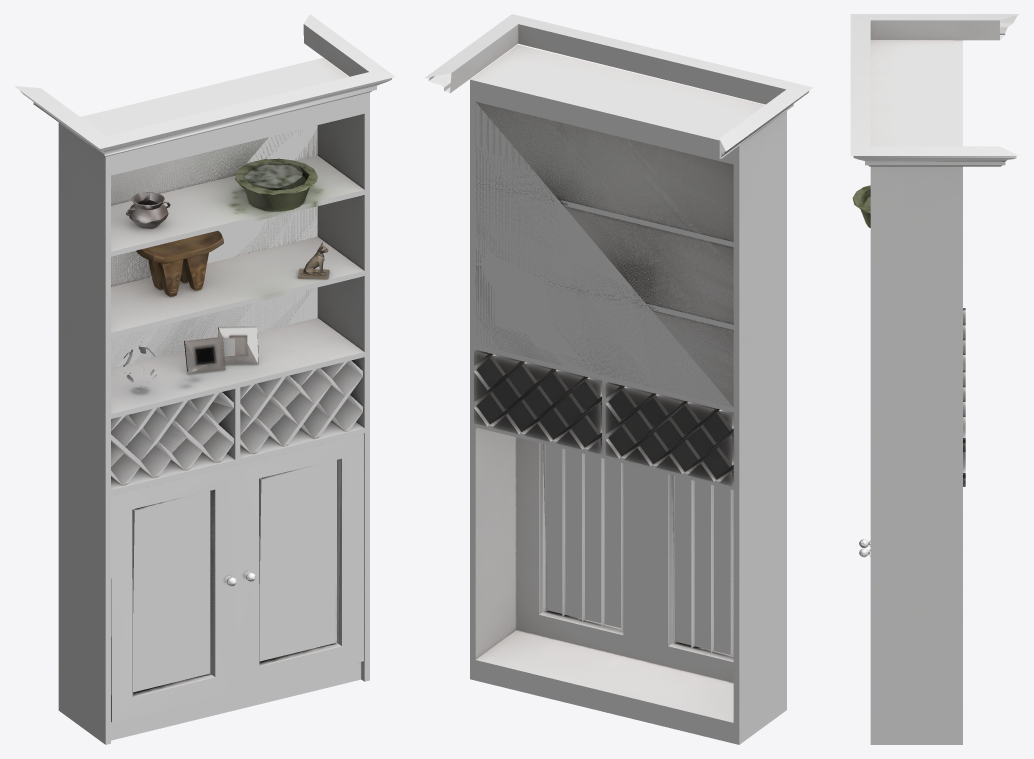
File: raw_model.obj
3 views of the same model, side by side, from view 1: azimuth 30°, elevation 25°; view 2: azimuth 150°, elevation 25°; view 3: azimuth 270°, elevation 25° (orthographic). The views are drawn at different scales.
Visible parts, largest first — view 1: solid_012, solid_006, solid_008, solid_005, solid_015, solid_014, solid_013; view 2: solid_012; view 3: solid_012, solid_005.
Part boxes in pixels (x1,y1,x2,y2): solid_012: (15,14,395,744); solid_006: (136,230,223,296); solid_008: (184,326,258,374); solid_005: (235,158,317,211); solid_015: (126,192,170,228); solid_014: (238,158,302,187); solid_013: (298,242,329,279); solid_012: (424,14,813,744); solid_012: (850,14,1019,744); solid_005: (852,185,870,227).
Size of the model in its own units: 1.09 by 2.15 by 0.5778.
1 material, 1 textured.
